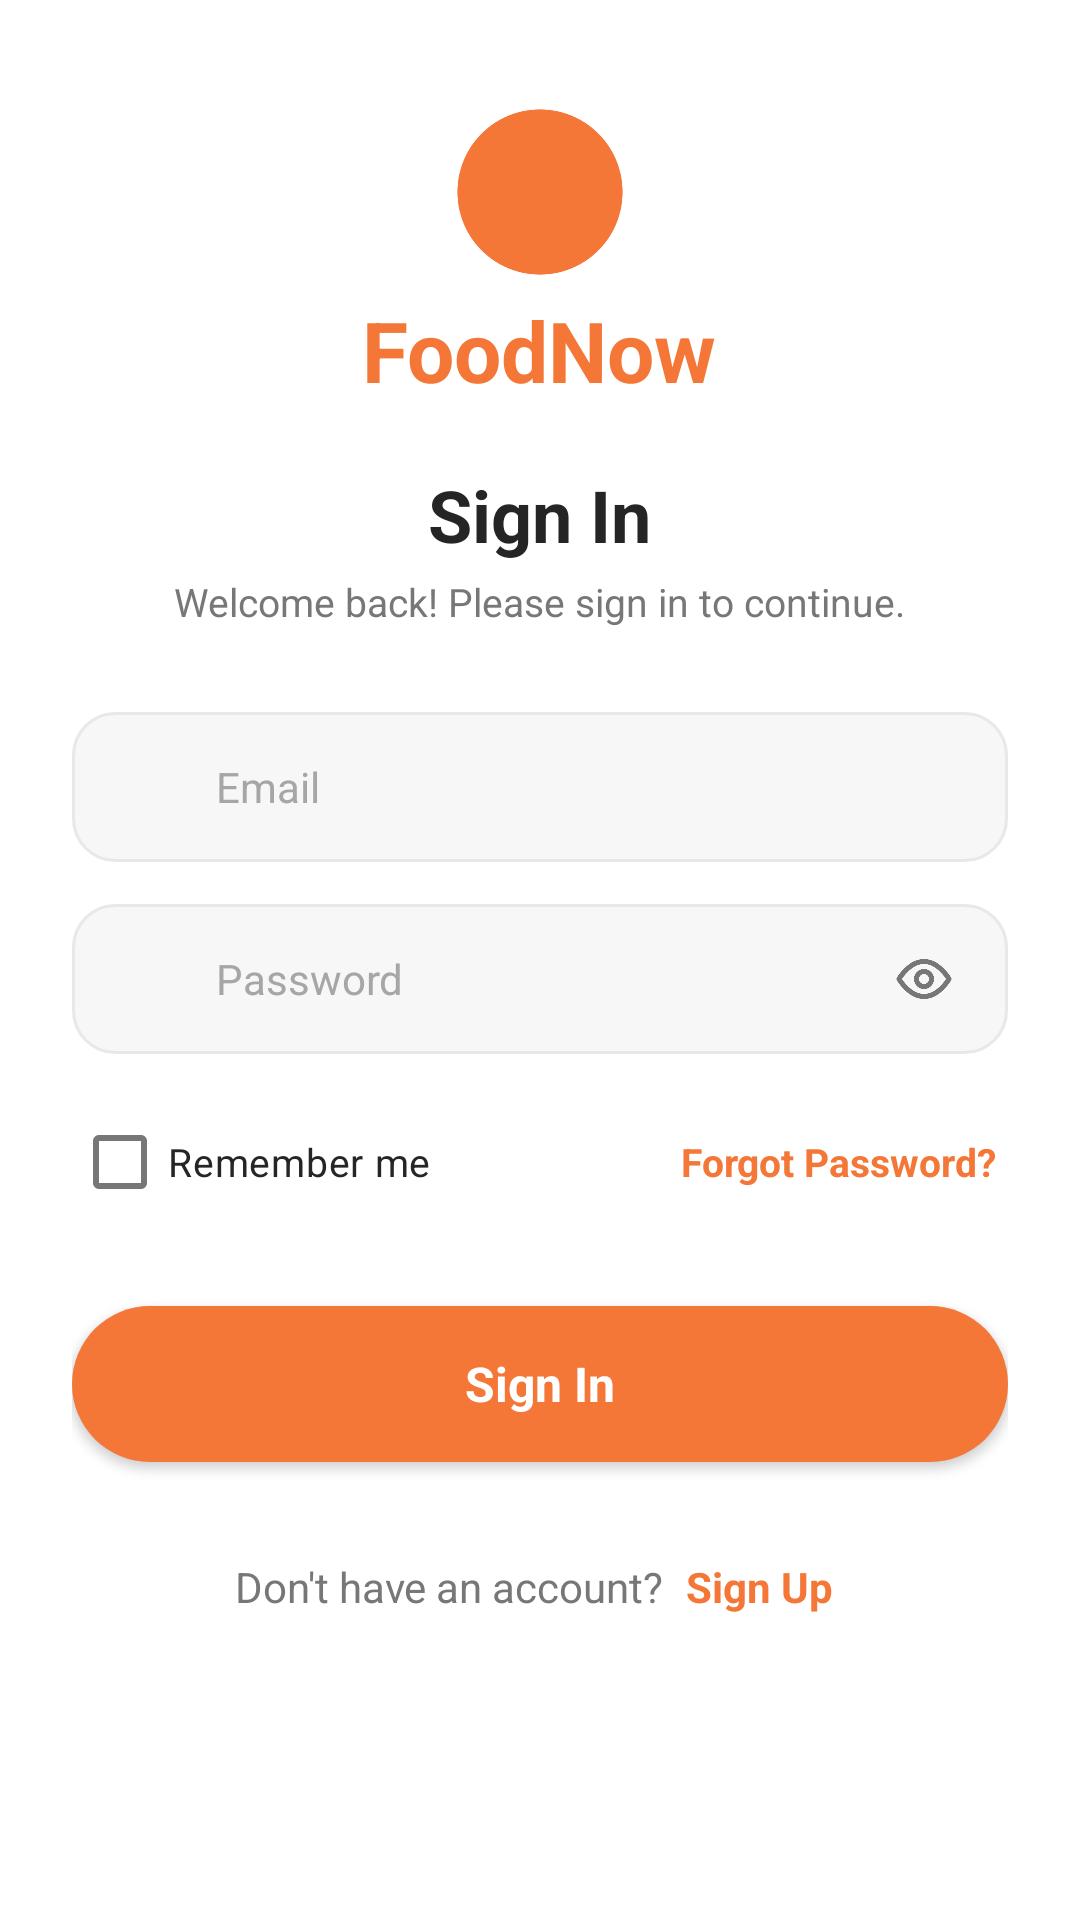

Named icons in this screenshot (1080*1920) and their centers, [x,y]:
eye: [924,979]
